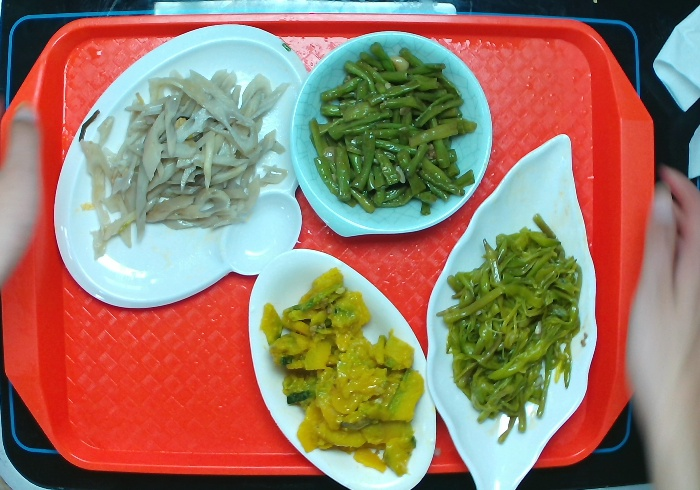RJxy-Bai_Se_Tuo_Yuan: (242, 246, 442, 490)
RJxy-Shu_Ye_Pan: (423, 120, 603, 490)
RJxy-Xiao_Jiao_Yuan_Wan: (284, 21, 497, 243)
RJxy-Zhan_Liao_Pan: (49, 10, 321, 311)
